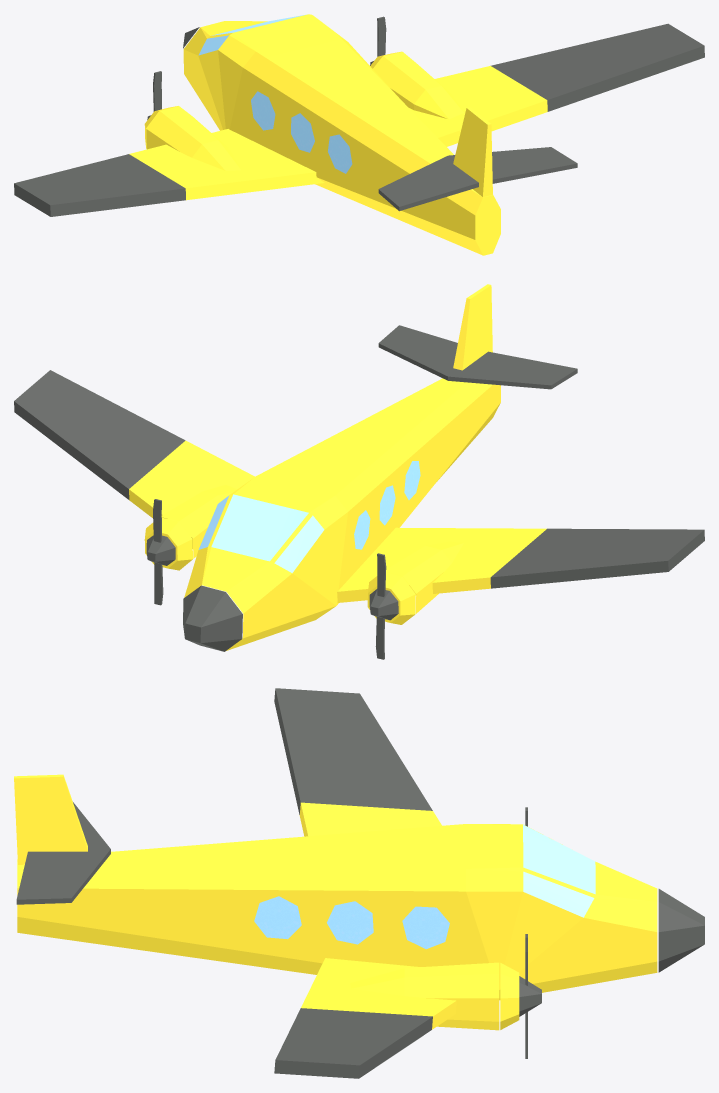
Rendered from transport_air.005.glb.
3 views of the same model, one above another, from view 1: azimuth 30°, elevation 25°; view 2: azimuth 150°, elevation 25°; view 3: azimuth 270°, elevation 25° (orthographic). The views are drawn at different scales.
Visible parts, largest first — view 1: transport_air.005(Clone); view 2: transport_air.005(Clone); view 3: transport_air.005(Clone).
Boxes of the visible parts, x1,y1,x2,y2 form: transport_air.005(Clone): (14,14,704,255); transport_air.005(Clone): (14,284,704,659); transport_air.005(Clone): (14,688,704,1078).
Bounding box in the file's own units: 13.32 × 3.64 × 10.46.
1 material, 1 textured.
